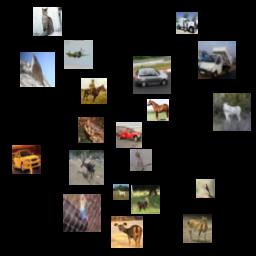airplane: (64, 40, 93, 69)
automobile: (133, 56, 171, 94), (12, 145, 41, 174)
bird: (63, 194, 101, 232), (20, 52, 55, 87), (196, 179, 215, 198)
cat: (33, 7, 62, 36), (130, 149, 152, 171)
deer: (213, 93, 251, 131), (69, 150, 104, 185), (111, 216, 143, 248), (131, 185, 160, 214), (183, 214, 212, 243)
frog: (78, 117, 104, 143)
truck: (198, 41, 236, 79), (116, 122, 142, 148), (176, 12, 198, 34)
